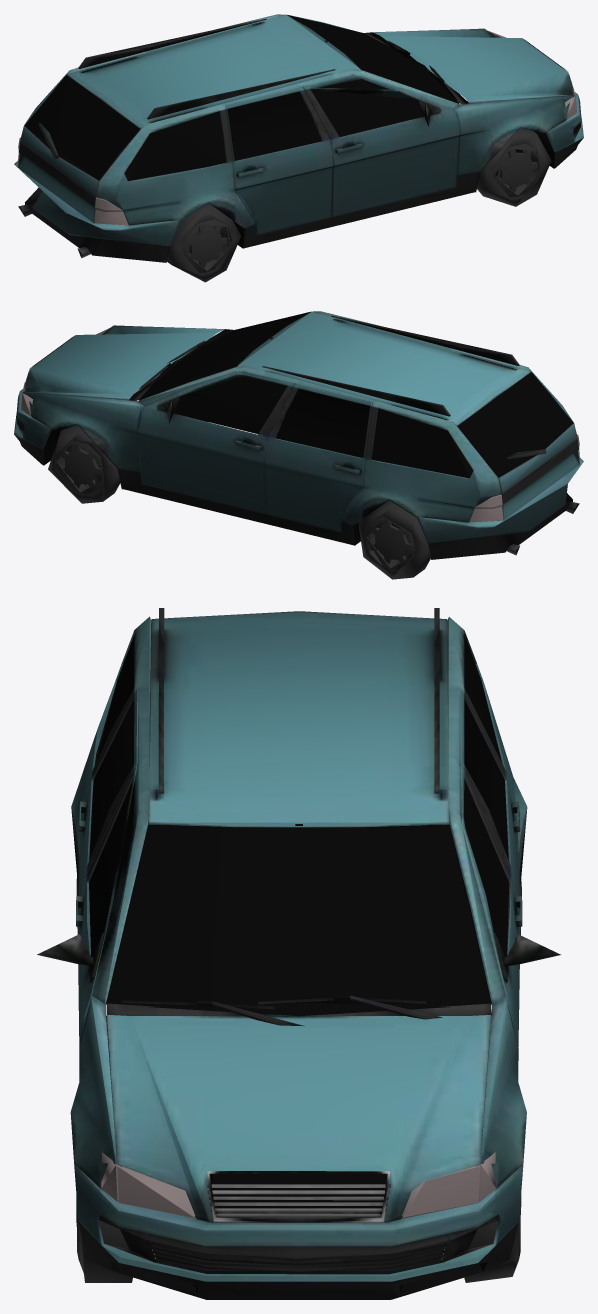
File: pc-wagon.lod1.glb
The picture shows the model from 3 angles, top to bottom: view 1: azimuth 30°, elevation 25°; view 2: azimuth 150°, elevation 25°; view 3: azimuth 270°, elevation 25°; orthographic projection. The views are drawn at different scales.
Visible parts, largest first — view 1: Wagon Body_Body_0, Wagon Body_Glass_0; view 2: Wagon Body_Body_0, Wagon Body_Glass_0; view 3: Wagon Body_Body_0, Wagon Body_Glass_0.
Part boxes in pixels (x1,y1,x2,y2): Wagon Body_Body_0: (14, 14, 583, 262); Wagon Body_Glass_0: (17, 15, 576, 282); Wagon Body_Body_0: (14, 311, 583, 559); Wagon Body_Glass_0: (21, 311, 580, 579); Wagon Body_Body_0: (37, 608, 560, 1299); Wagon Body_Glass_0: (76, 635, 521, 1282).
Size of the model in its own units: 4.36 by 1.36 by 1.93.
2 materials, 1 textured.
